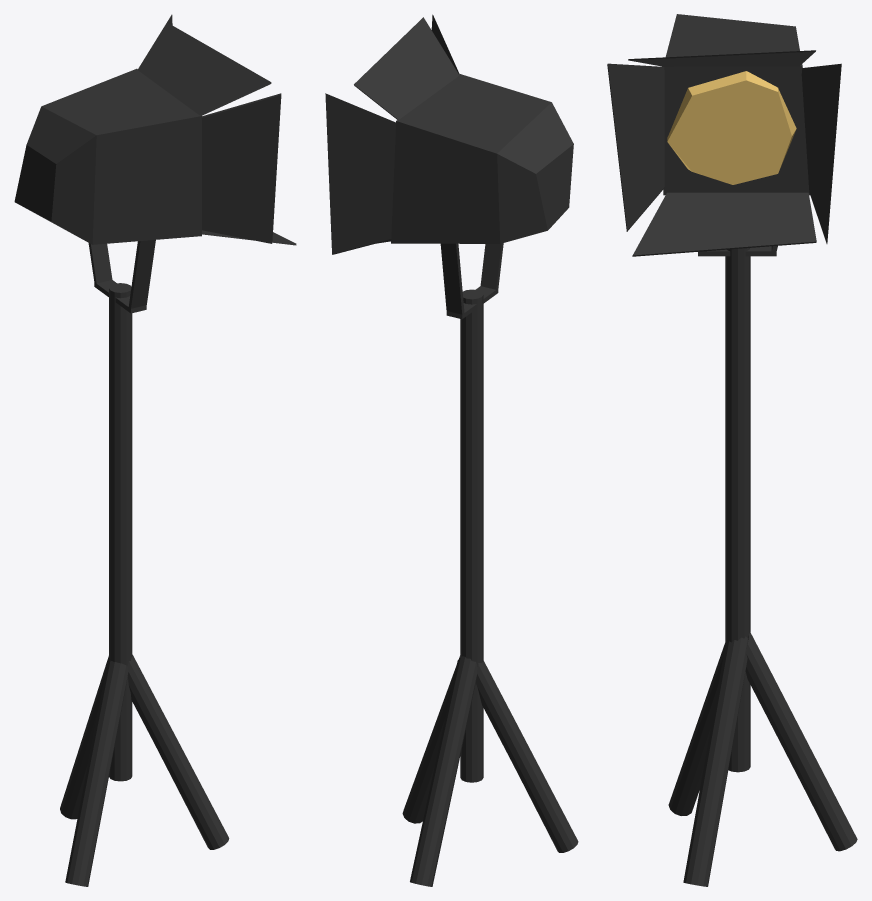
Rendered from FocoPie.fbx.
3 views of the same model, side by side, from view 1: azimuth 30°, elevation 25°; view 2: azimuth 150°, elevation 25°; view 3: azimuth 270°, elevation 25° (orthographic). The views are drawn at different scales.
Parts seen in each view (by area): view 1: Cylinder.003; view 2: Cylinder.003; view 3: Cylinder.003.
Part boxes in pixels (x1,y1,x2,y2): Cylinder.003: (14, 14, 296, 886); Cylinder.003: (325, 14, 578, 886); Cylinder.003: (607, 14, 857, 886).
Size of the model in its own units: 50.36 by 173 by 46.5.
